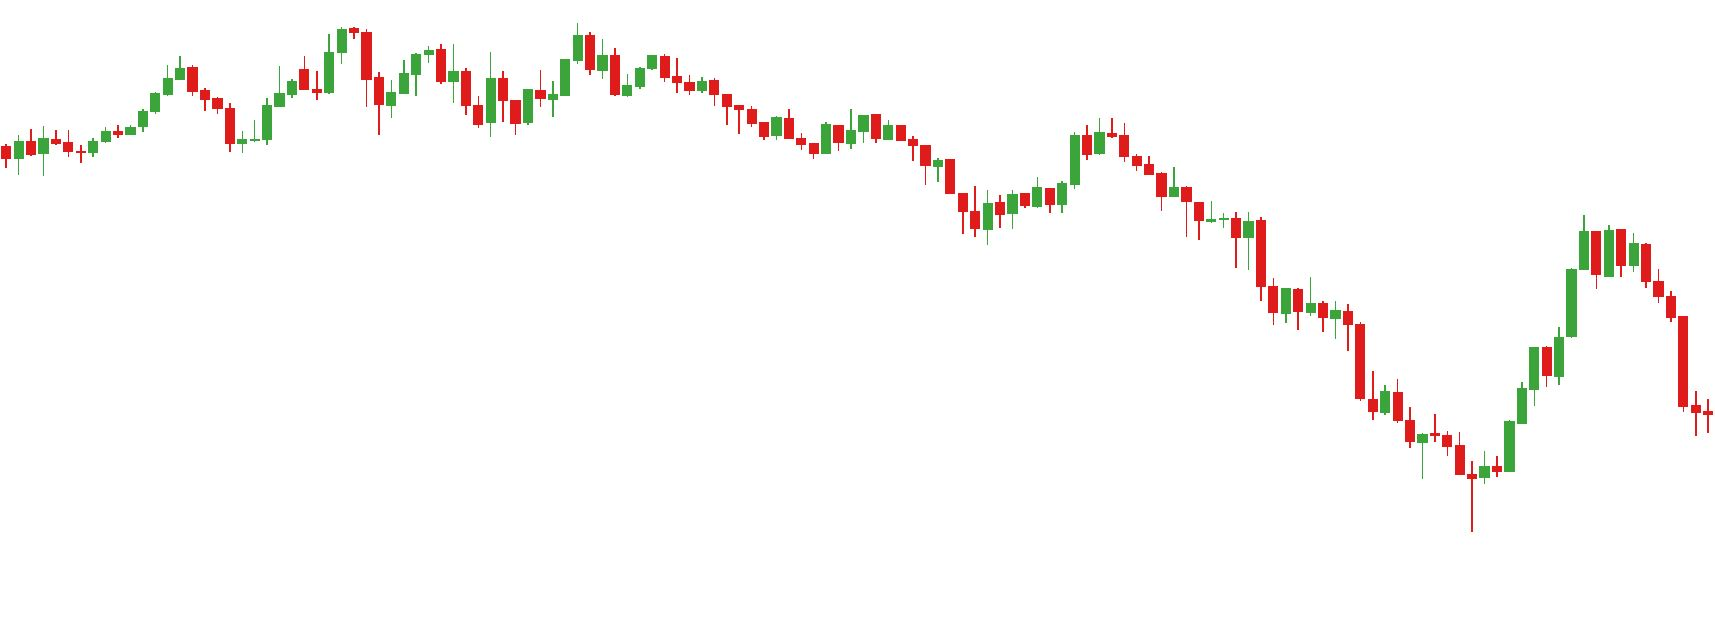sell: (433, 24, 597, 102)
